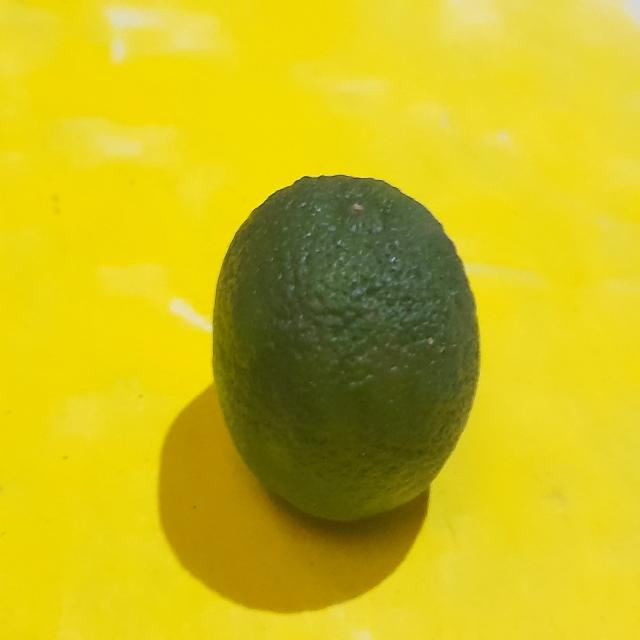heathy: (211, 173, 480, 525)
